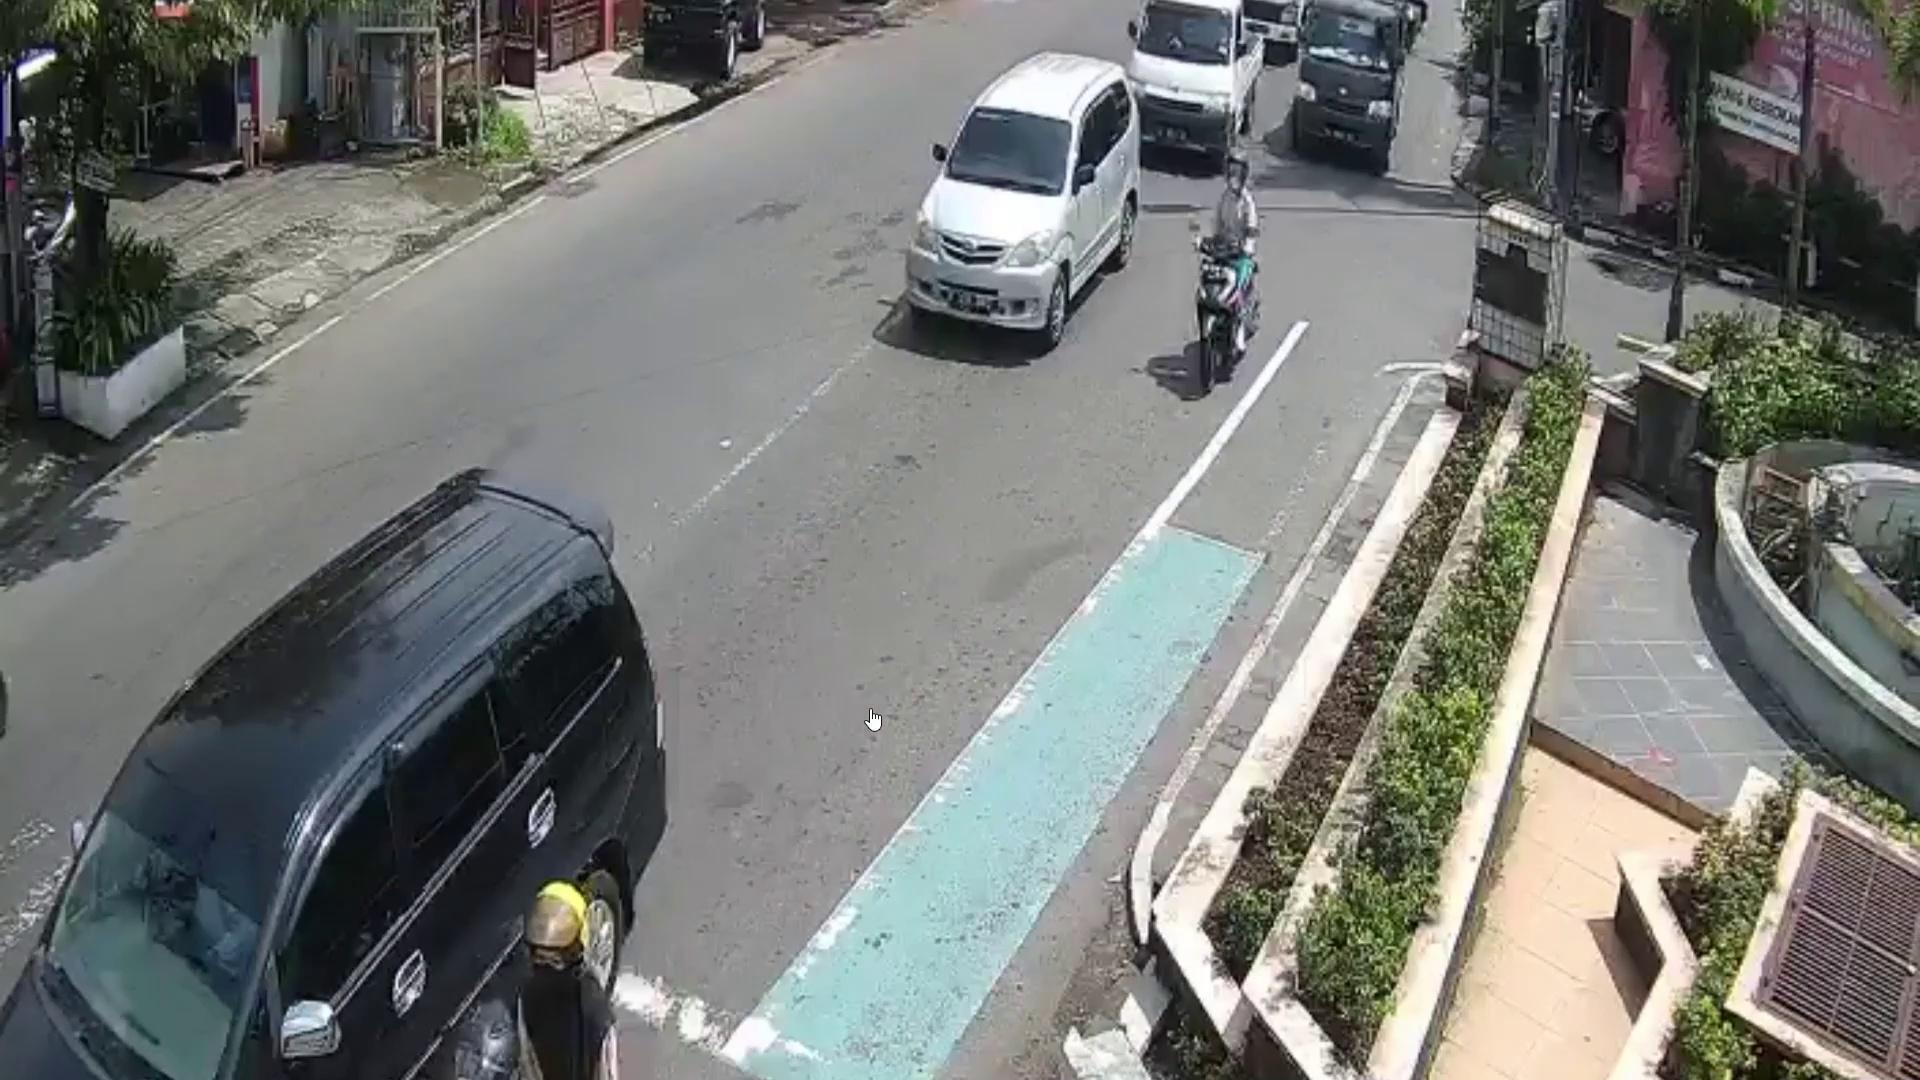car: (0, 468, 667, 1080), (903, 51, 1141, 353), (1129, 1, 1263, 164), (1294, 0, 1400, 179)
motorbike: (1196, 236, 1255, 393)
